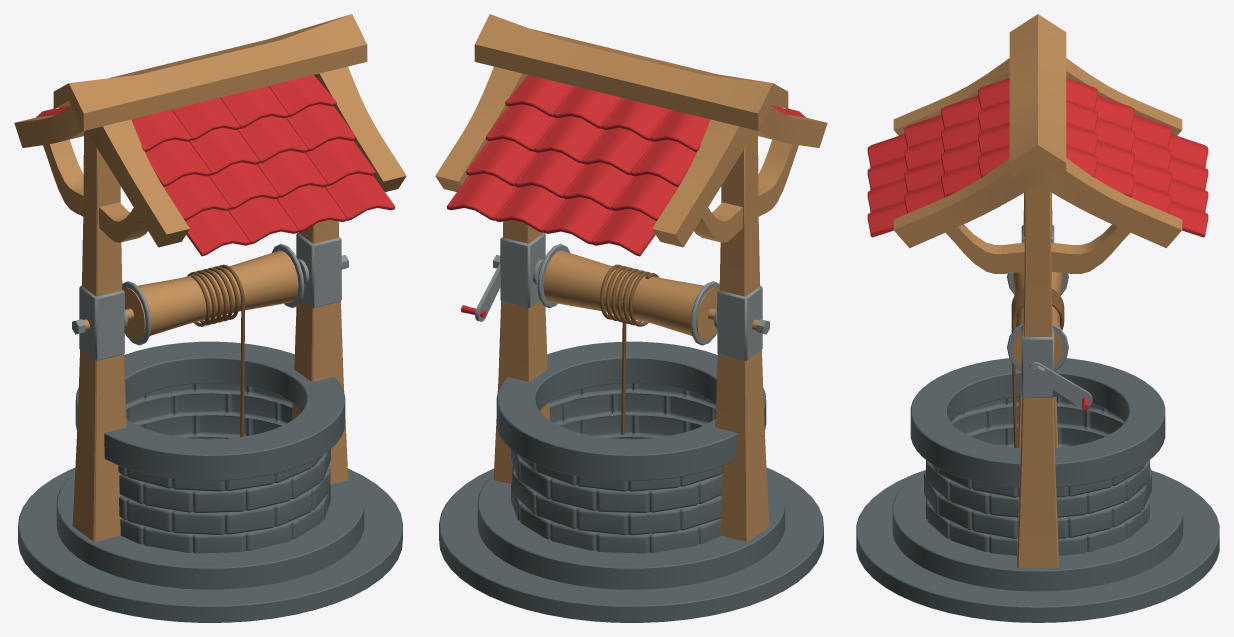
File: Pozo.fbx
3 views of the same model, side by side, from view 1: azimuth 30°, elevation 25°; view 2: azimuth 150°, elevation 25°; view 3: azimuth 270°, elevation 25° (orthographic). The views are drawn at different scales.
Parts seen in each view (by area): view 1: Pozo; view 2: Pozo; view 3: Pozo.
Part boxes in pixels (box(x1,y1,x2,y2)): Pozo: box(14, 14, 406, 622); Pozo: box(435, 14, 827, 622); Pozo: box(856, 14, 1219, 622).
Bounding box in the file's own units: 200 × 283 × 200.
